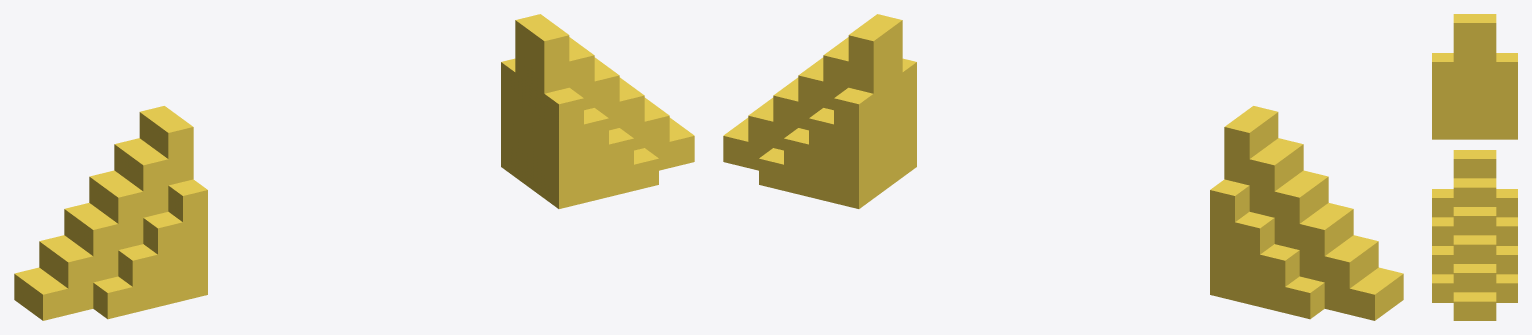
File: rocket_fins.fbx
The picture shows the model from 3 angles, left to right: view 1: azimuth 30°, elevation 25°; view 2: azimuth 150°, elevation 25°; view 3: azimuth 270°, elevation 25°; orthographic projection. The views are drawn at different scales.
Parts seen in each view (by area): view 1: generated; view 2: generated; view 3: generated.
Part boxes in pixels (bbox=[...]): generated: bbox=[14, 14, 694, 320]; generated: bbox=[723, 14, 1403, 320]; generated: bbox=[1432, 14, 1517, 320].
Bounding box in the file's own units: 260 × 60 × 40.
